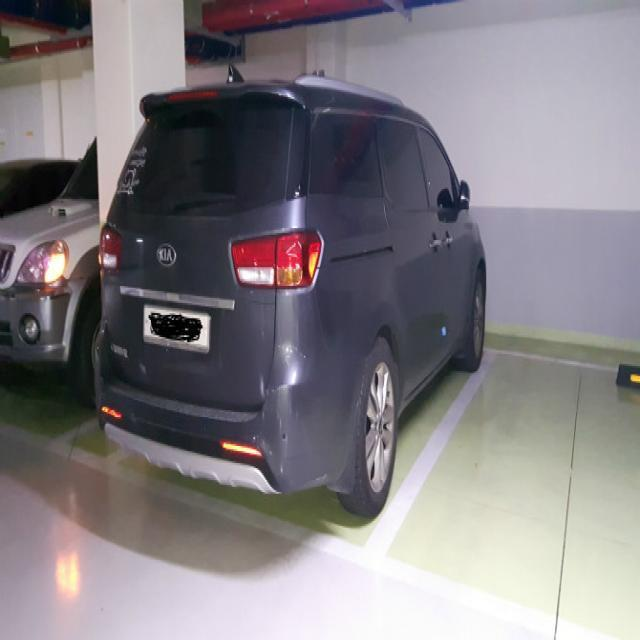Car: (98, 91, 490, 525)
Vacant: (391, 326, 640, 567)
